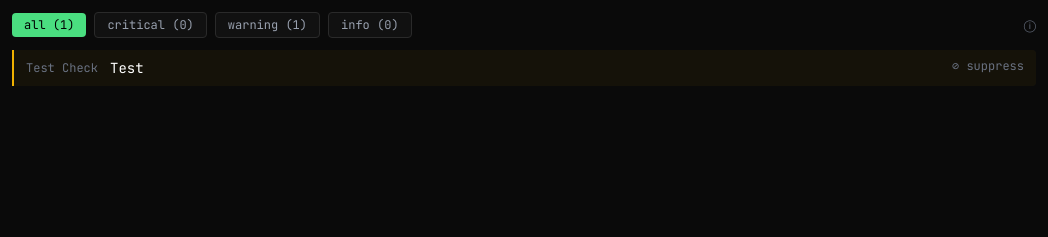
IssuesList › shows suppress info popover when info icon is clicked
Click the button titled "About suppress rules": coordinates (1030, 25) [1024, 17, 1036, 33]
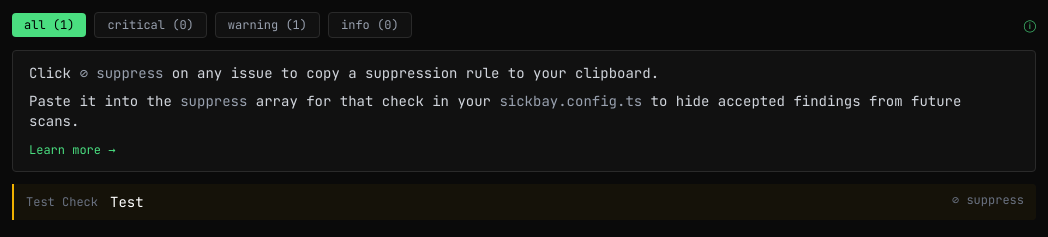
Now the text "copy a suppression rule" is shown, box [163, 64, 659, 82]
